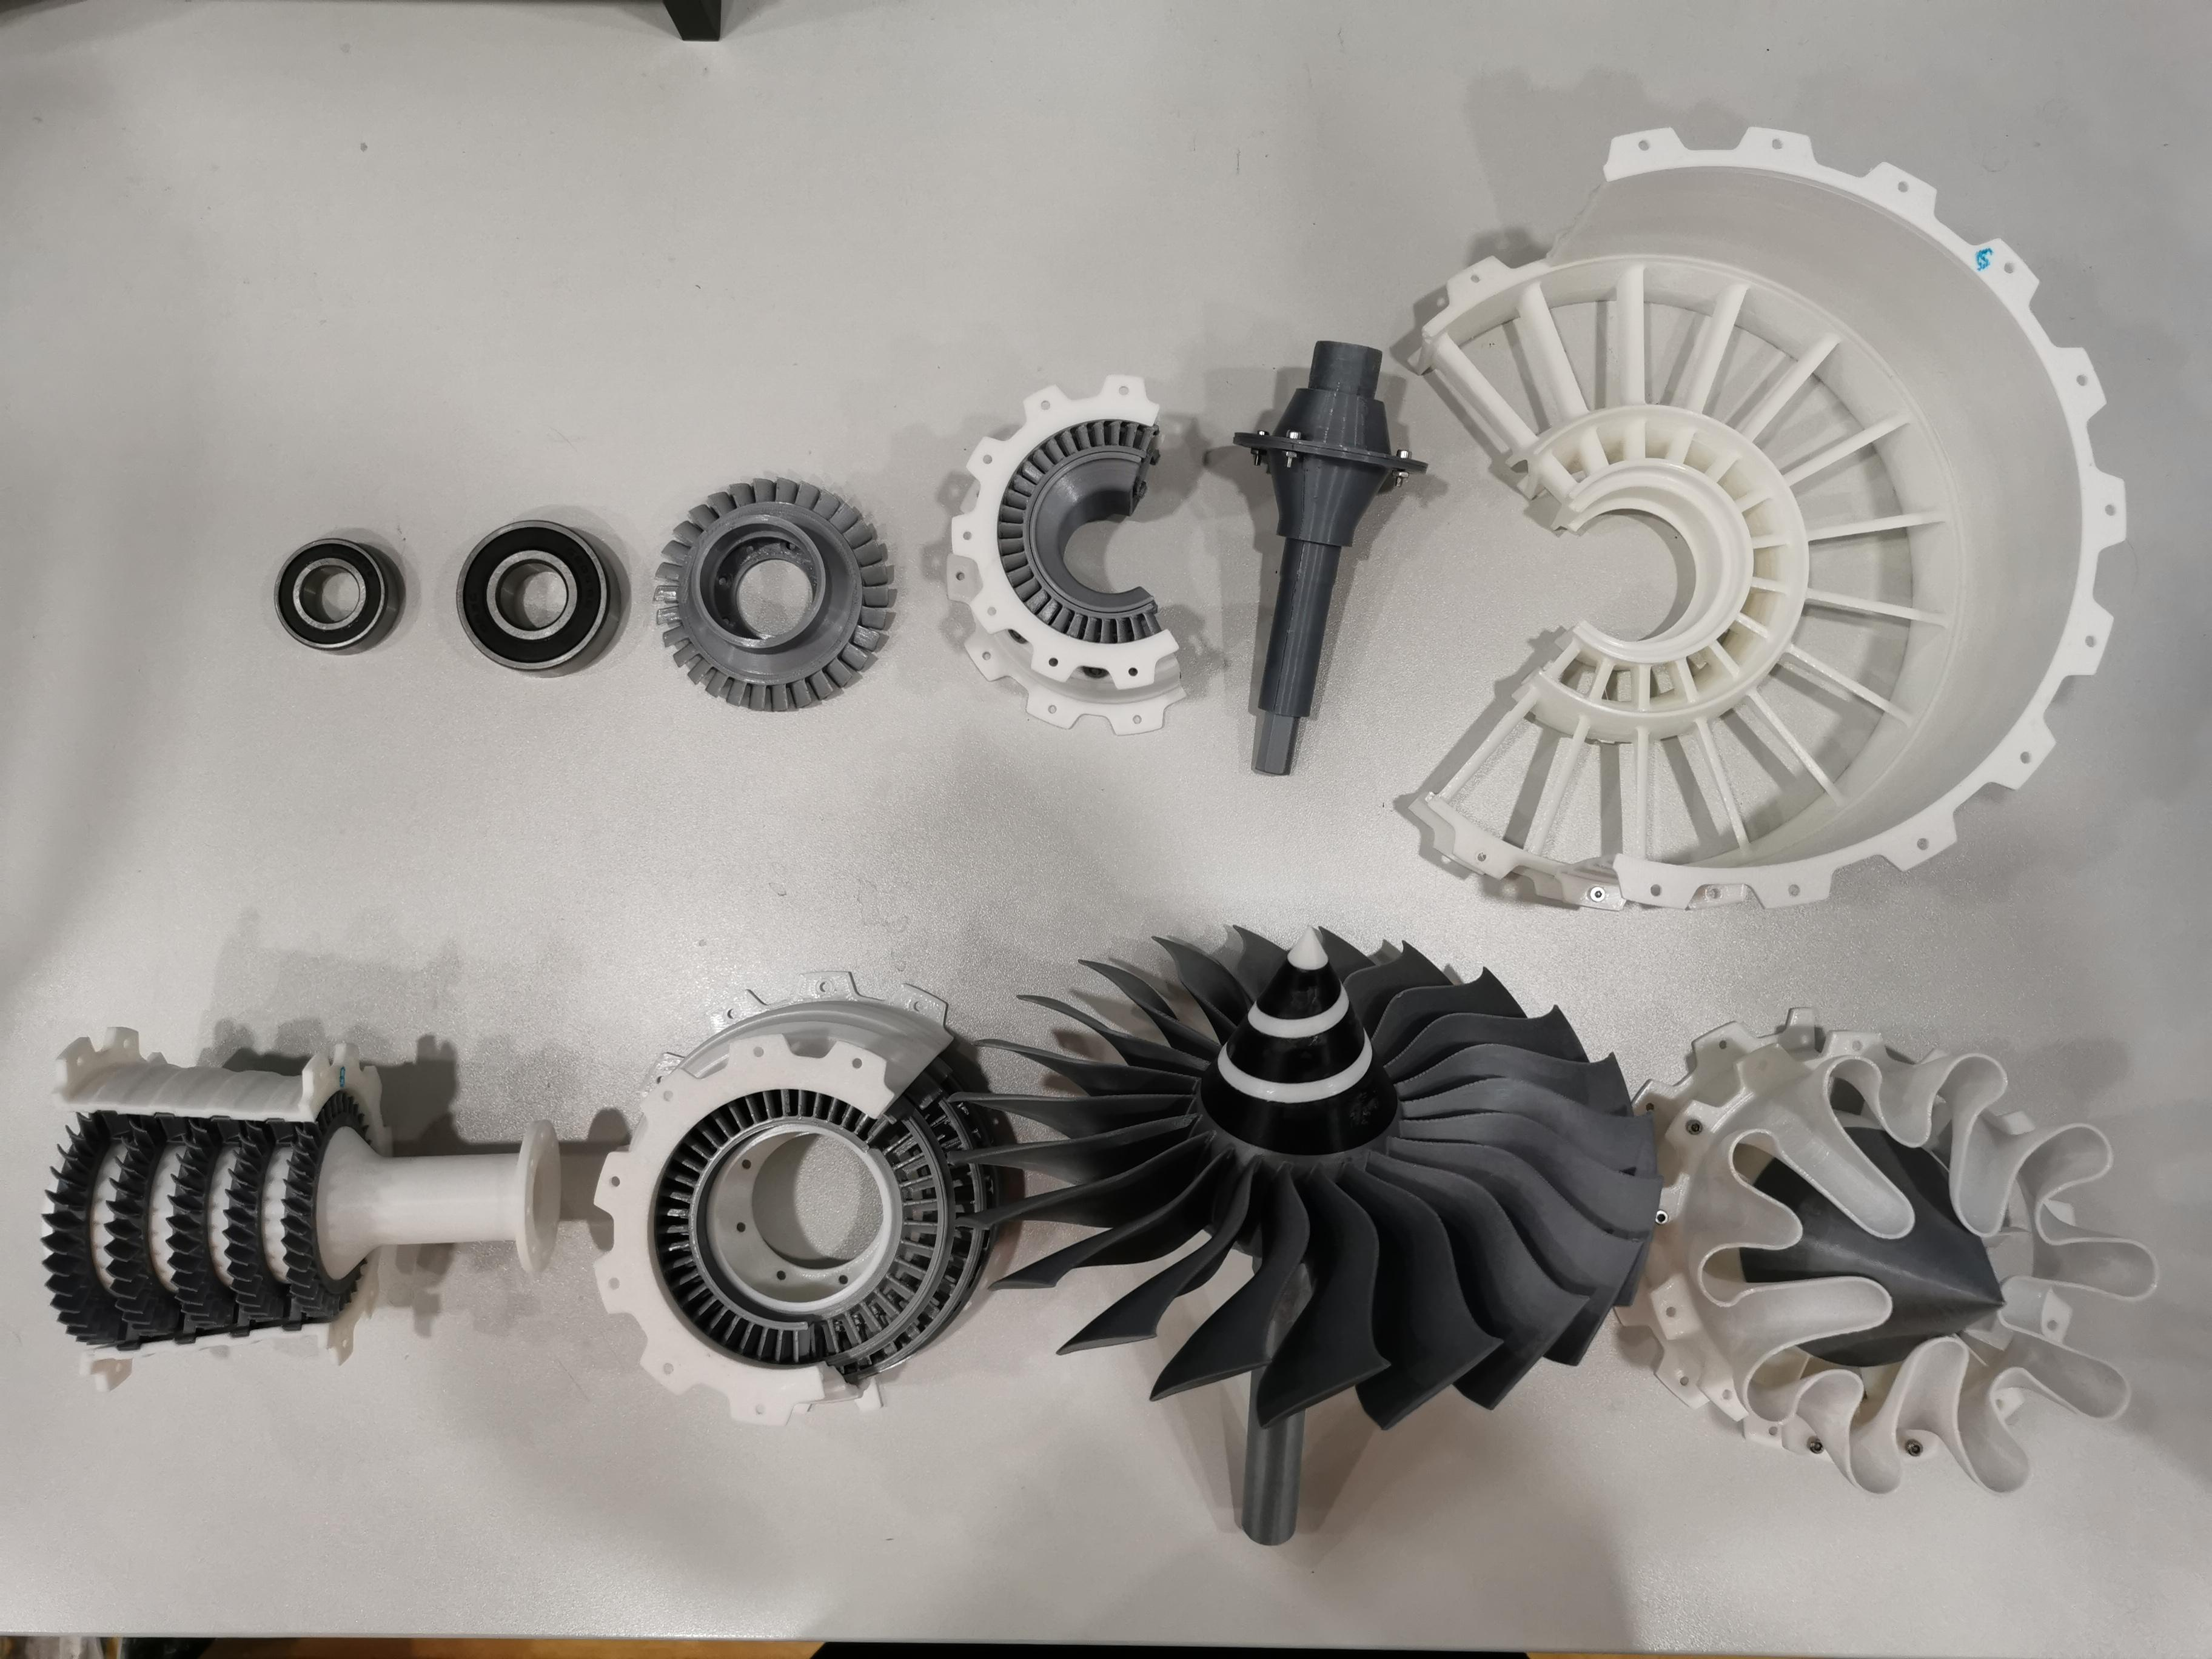Bearing-6003: (256, 526, 415, 666)
Bearing-6204: (435, 504, 629, 697)
Combustion Section: (934, 362, 1207, 742)
Fan Casing and Support: (1395, 112, 2144, 924)
Fan and Low Pressure Shaft: (941, 918, 1674, 1554)
HPT Section: (637, 469, 914, 721)
High Pressure Spool: (37, 1009, 577, 1419)
LPT Section: (580, 965, 1008, 1446)
Low Pressure Spool: (1223, 333, 1439, 786)
Nozzle Section: (1602, 995, 2163, 1509)
